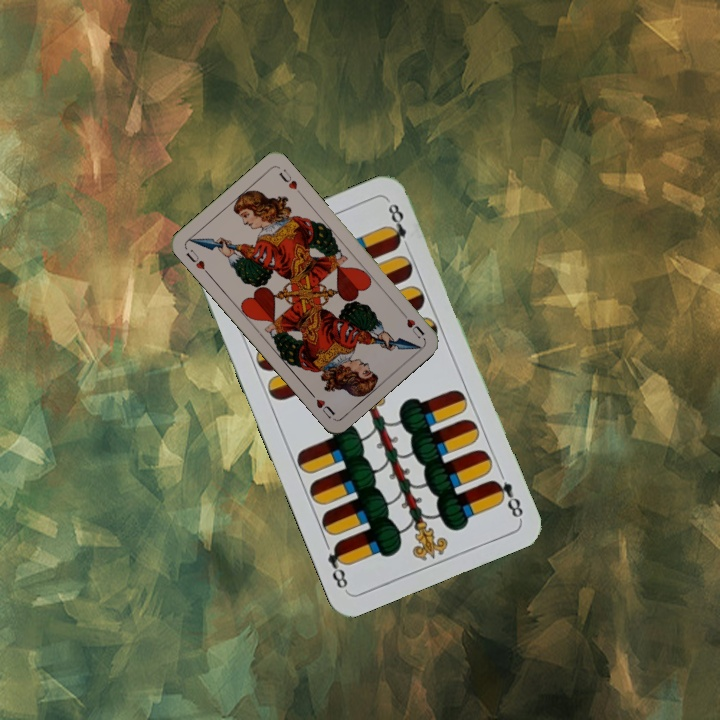E8: (487, 475, 526, 522)
HU: (397, 307, 427, 341), (182, 245, 212, 278)
